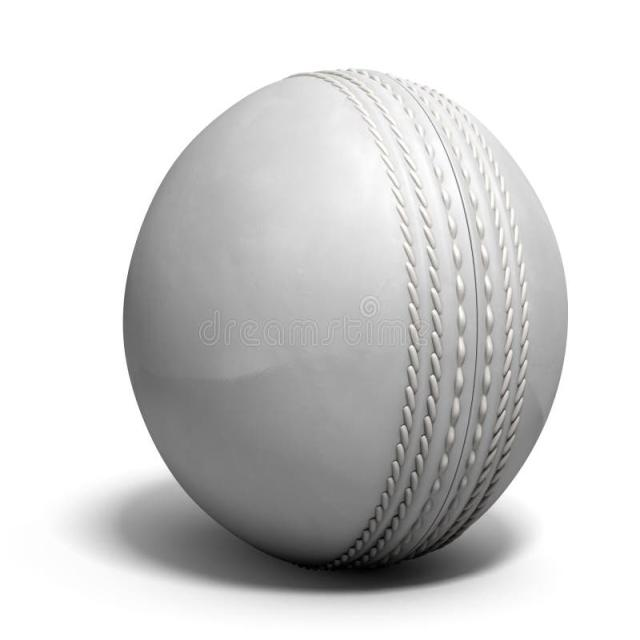ball: (121, 67, 576, 579)
